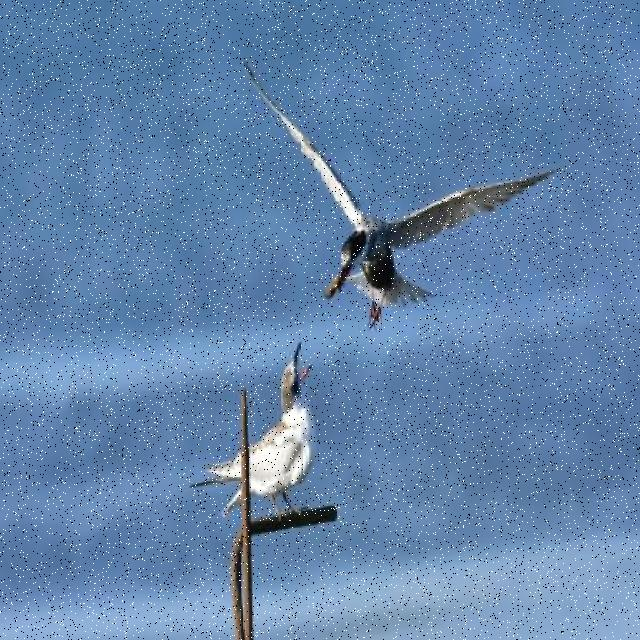bird: (245, 60, 564, 332), (190, 340, 319, 522)
